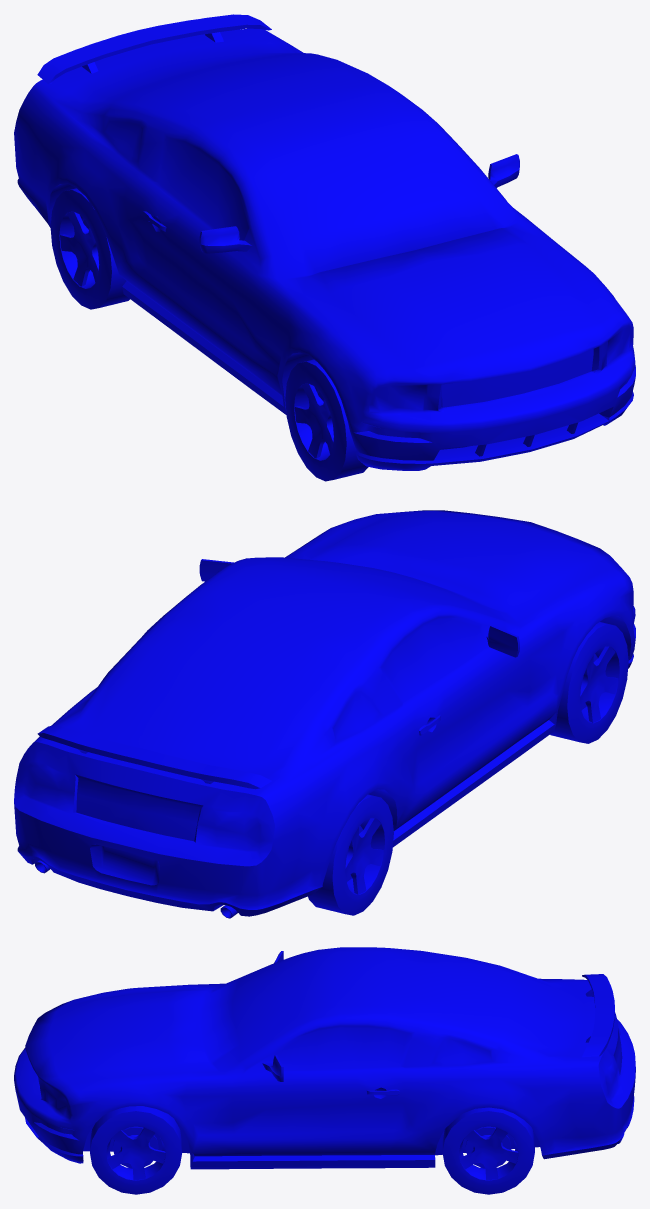
Rendered from car.FBX.
The picture shows the model from 3 angles, top to bottom: view 1: azimuth 30°, elevation 25°; view 2: azimuth 150°, elevation 25°; view 3: azimuth 270°, elevation 25°; orthographic projection. The views are drawn at different scales.
Parts seen in each view (by area): view 1: Object010; view 2: Object010; view 3: Object010.
Boxes of the visible parts, left/top/right/bottom form: Object010: left=14, top=14, right=635, bottom=481; Object010: left=14, top=510, right=635, bottom=918; Object010: left=14, top=947, right=635, bottom=1194.
Size of the model in its own units: 20072 by 45080 by 13300.
